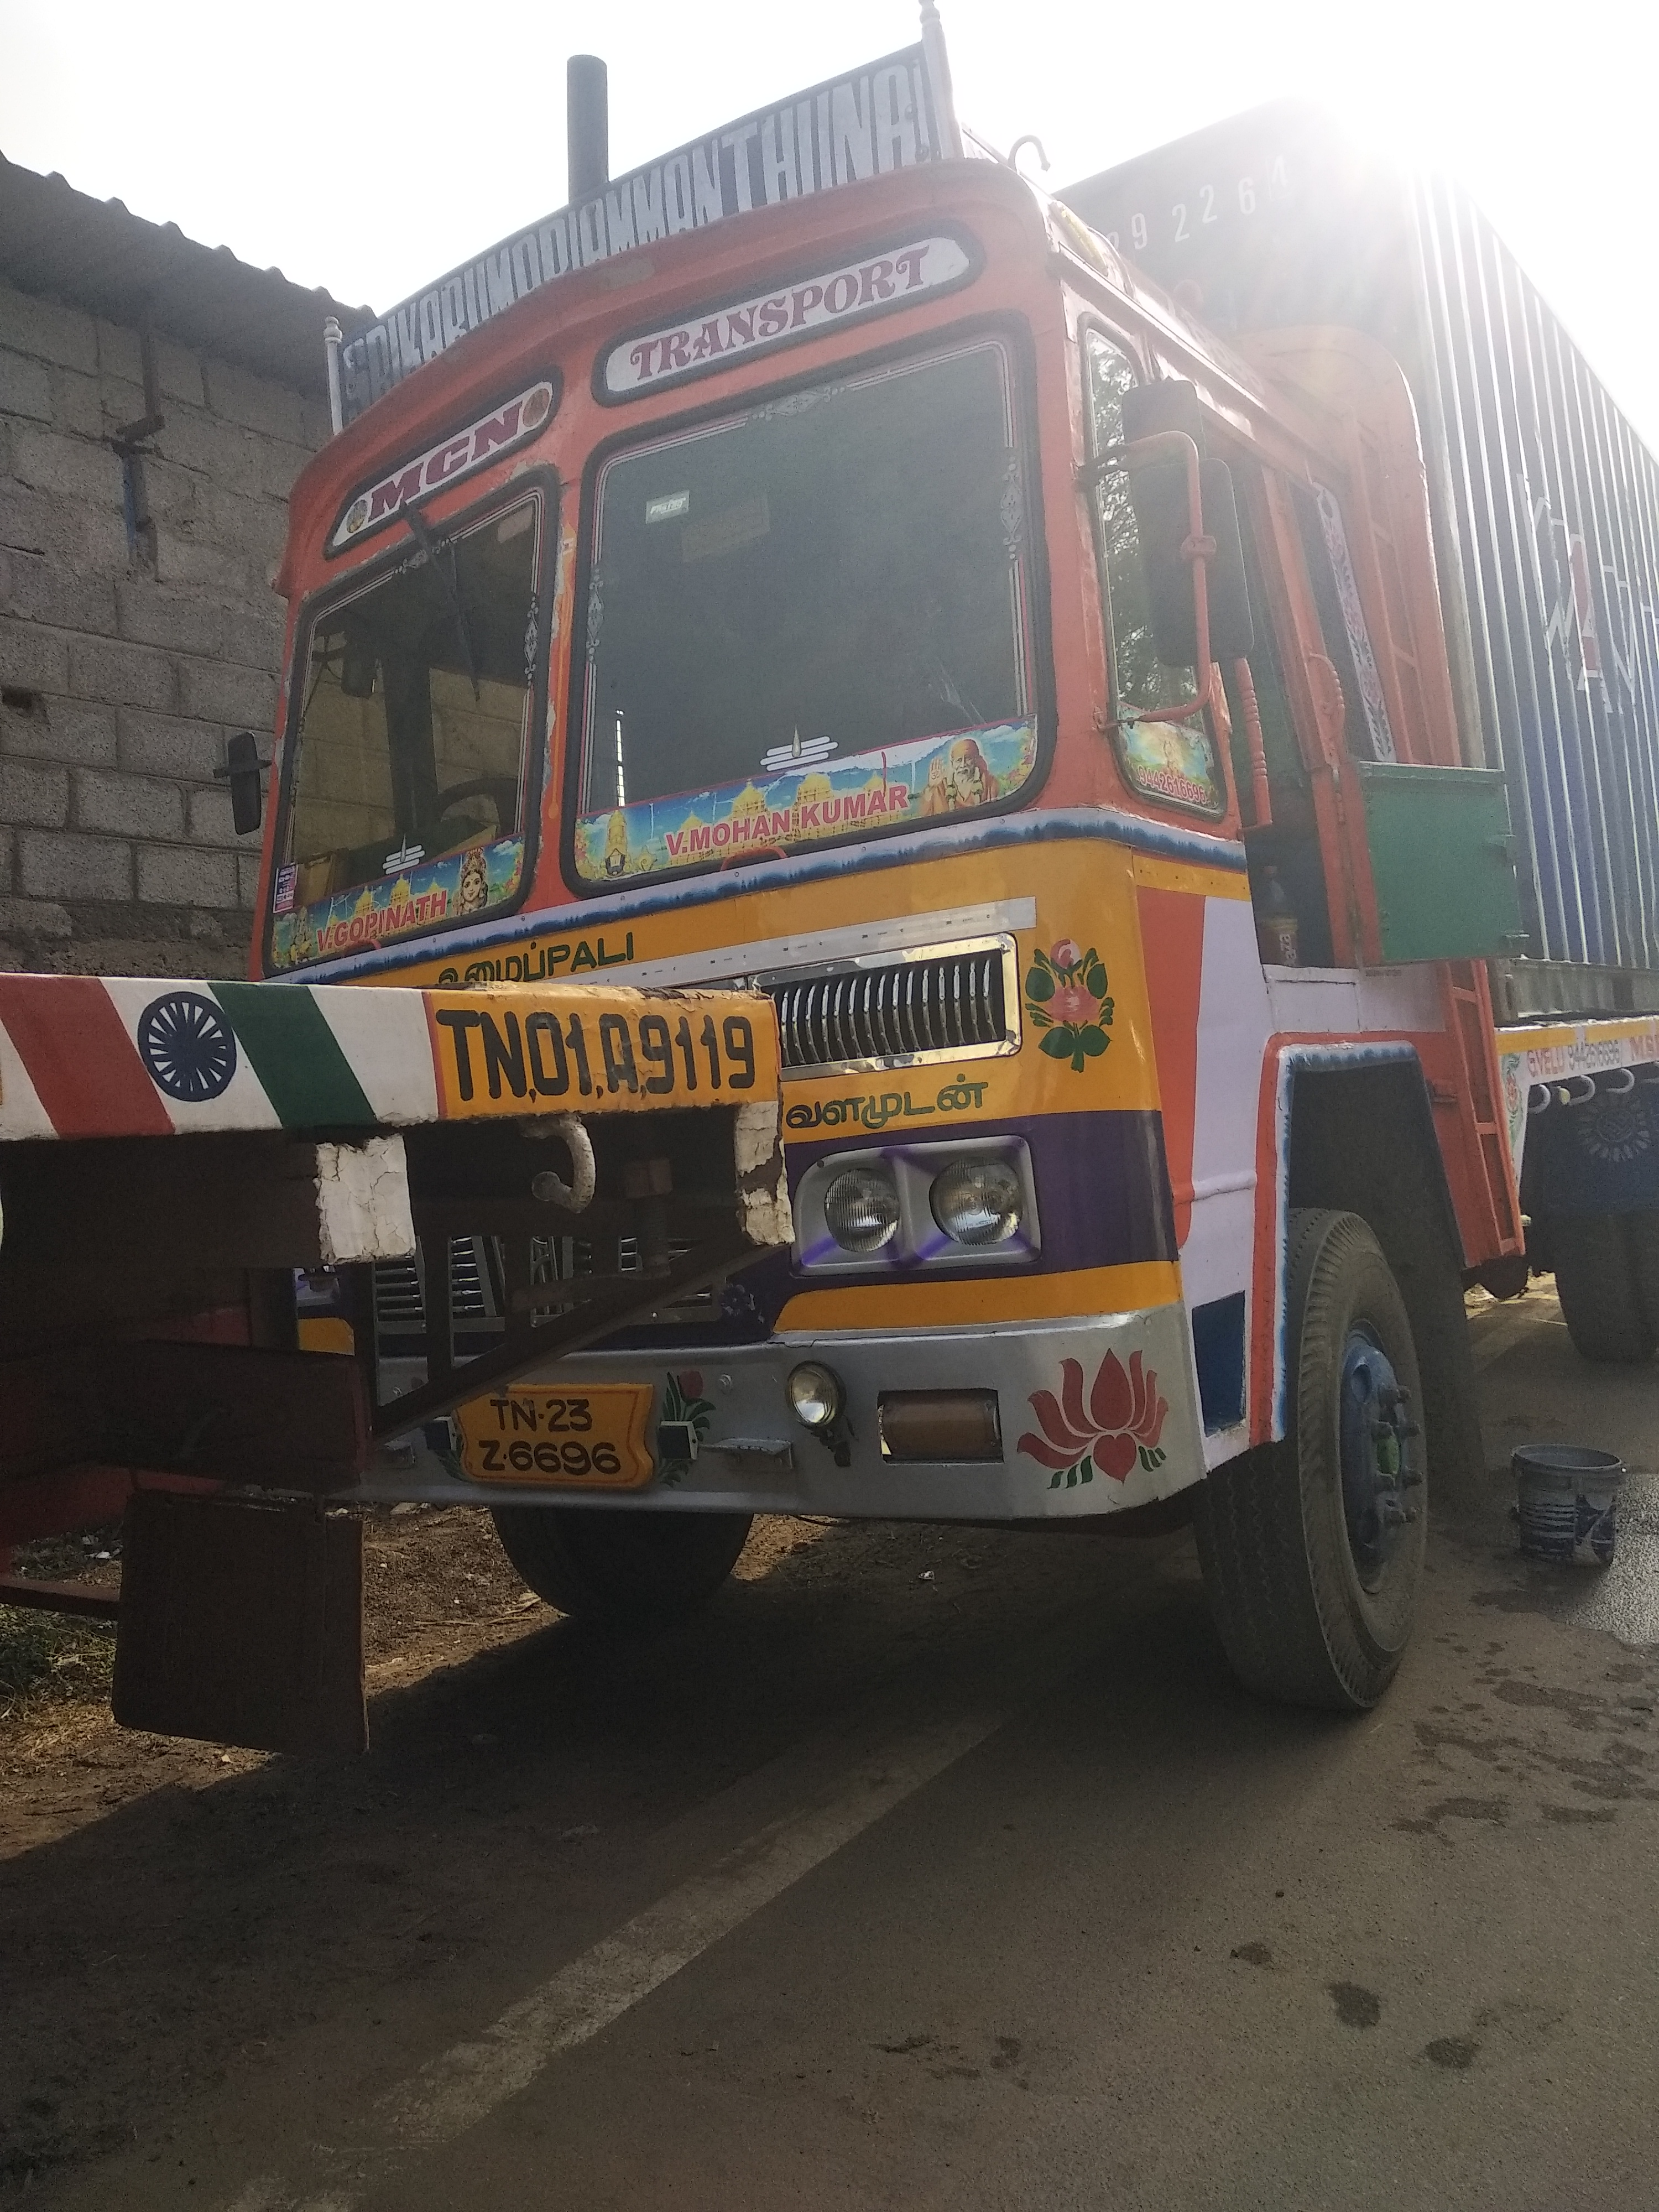truck: (207, 0, 1659, 1728), (0, 961, 800, 1761)
